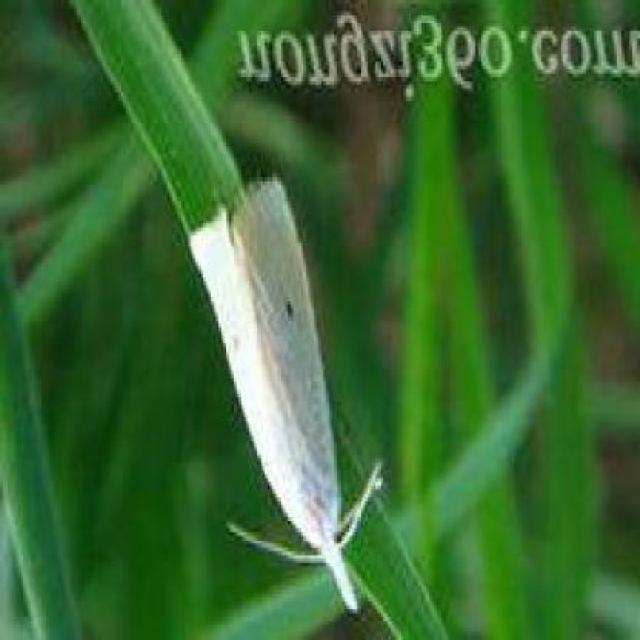stem-borer: (175, 163, 389, 626)
